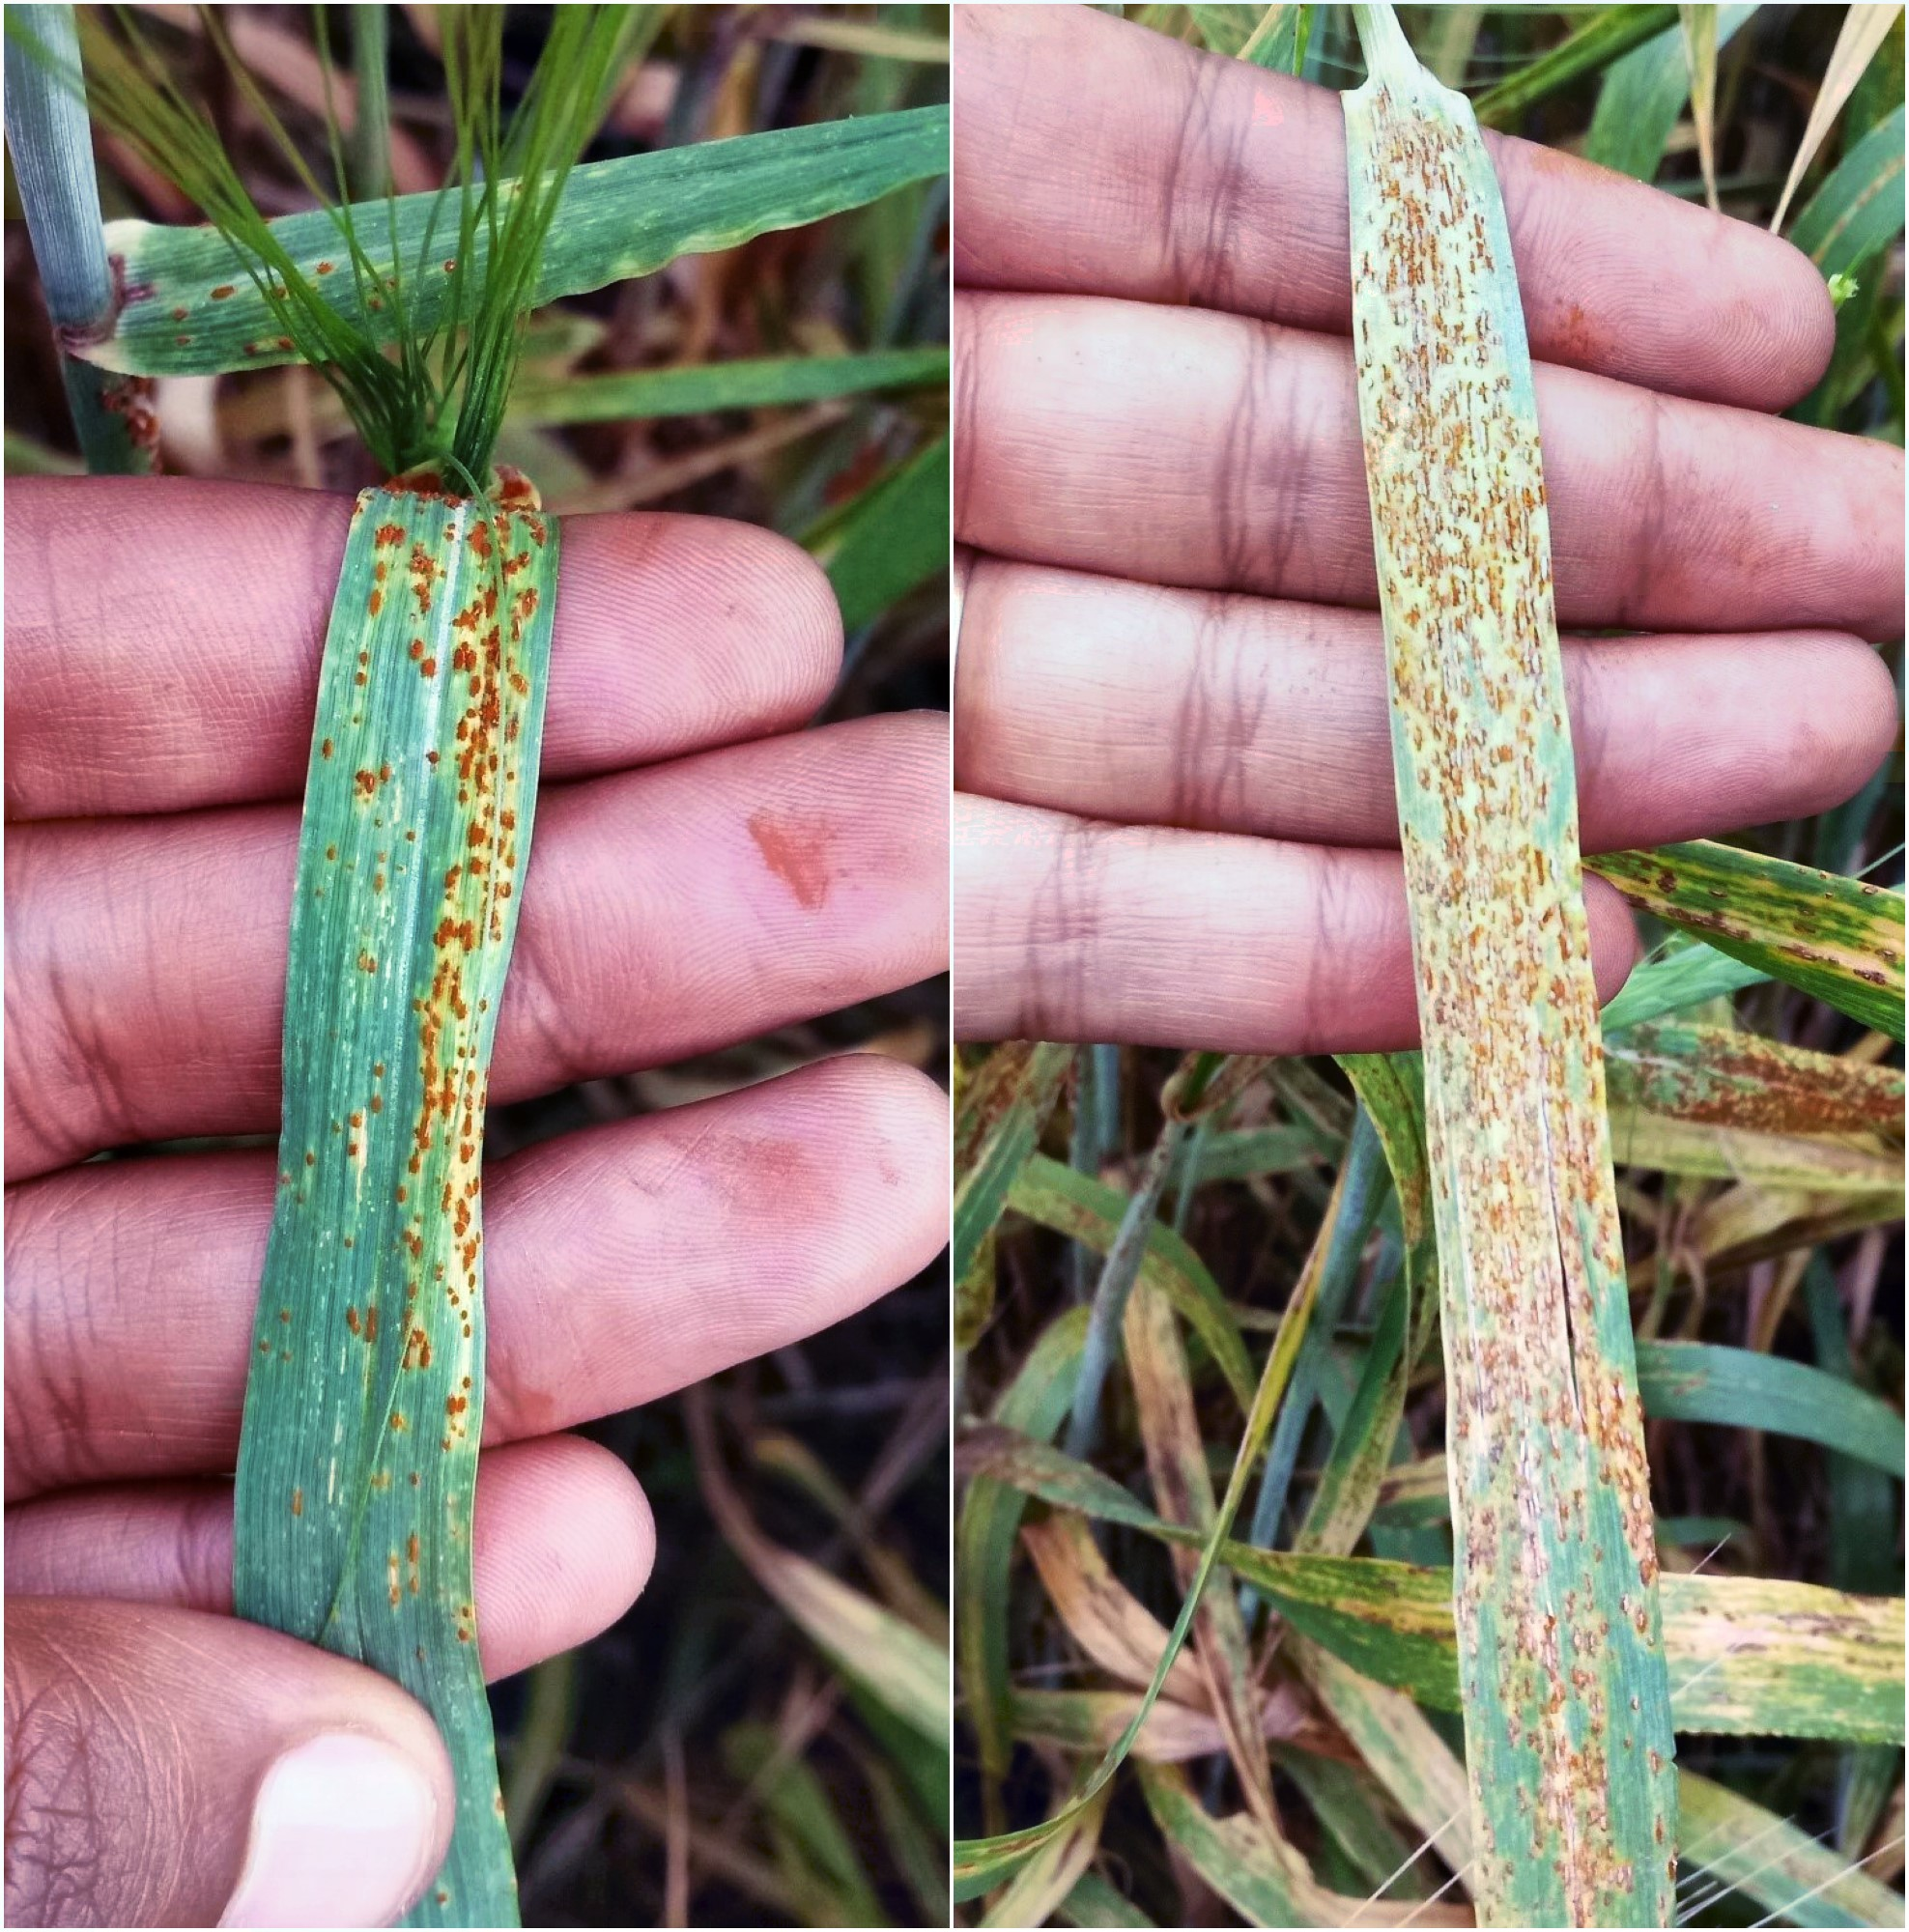Leaf Rust: (1344, 147, 1743, 1869), (250, 483, 565, 1488)
